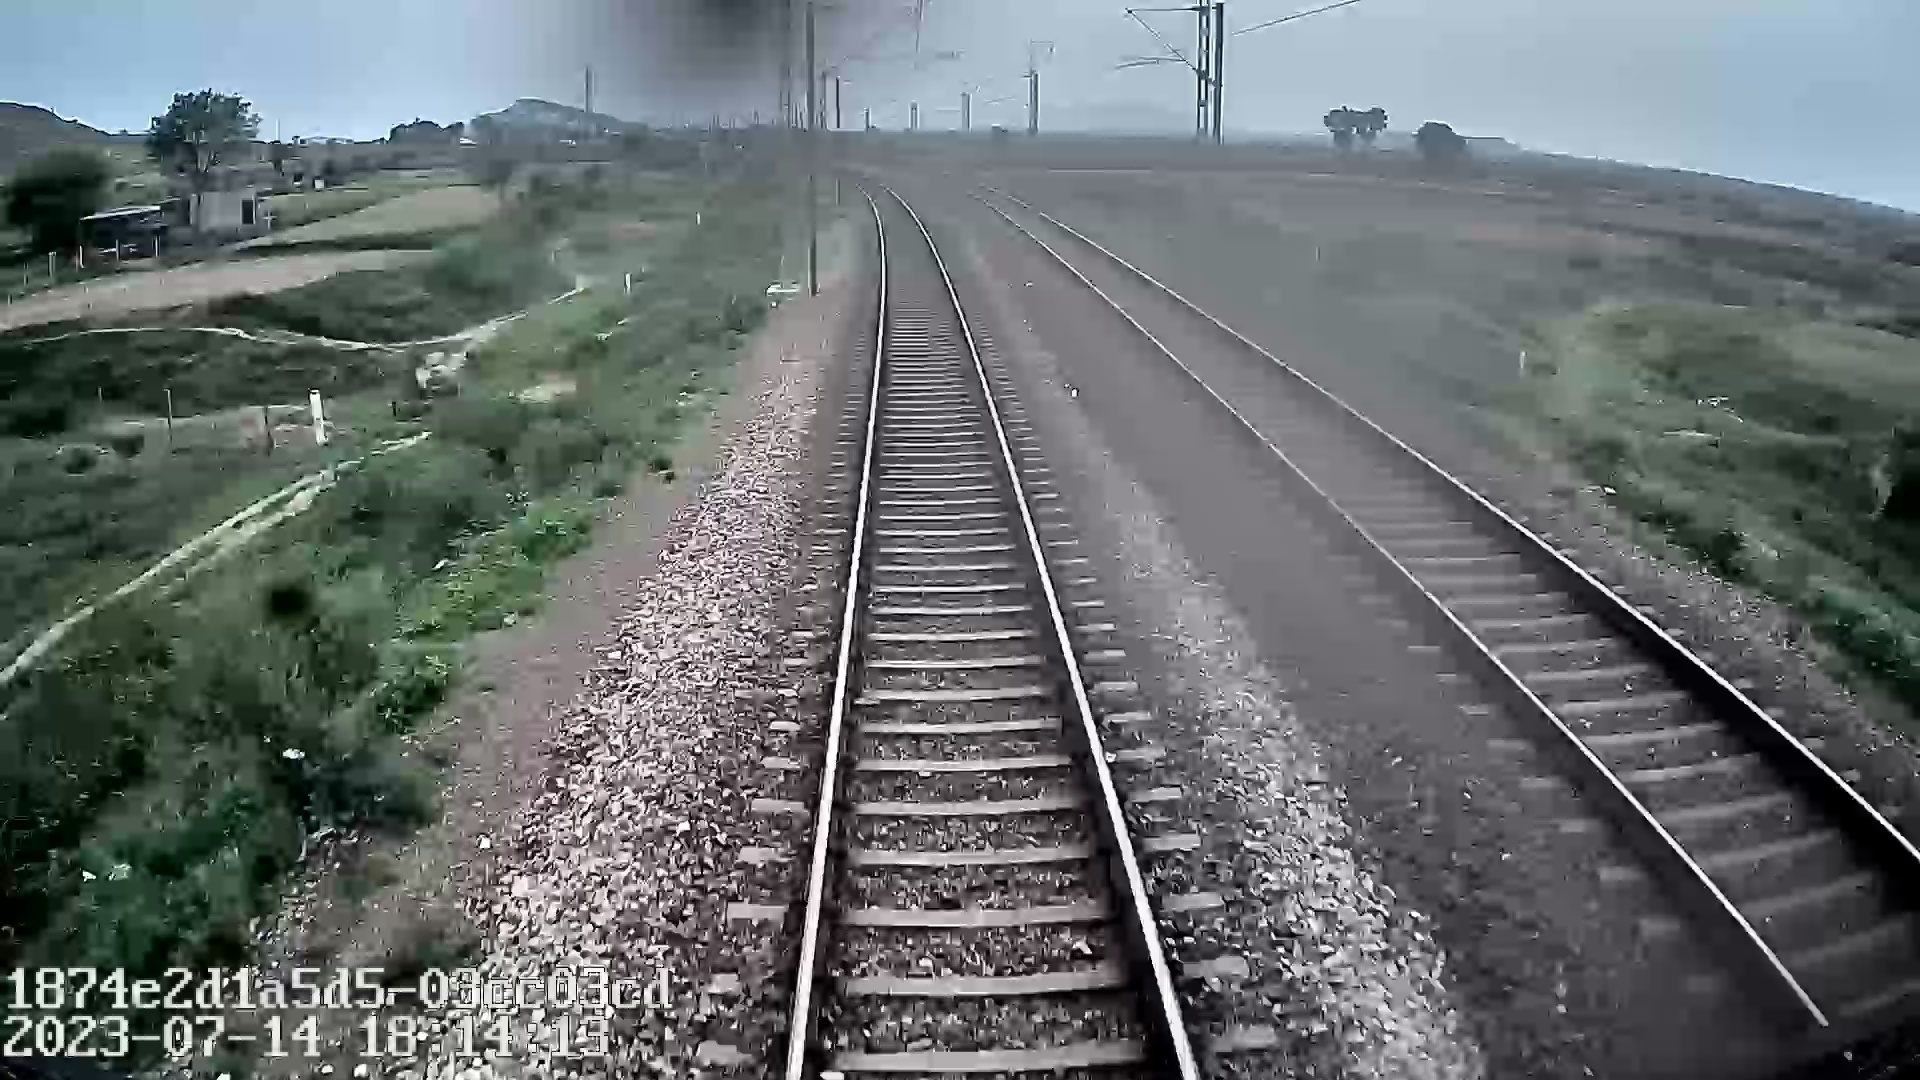track1: (796, 185, 1192, 1071)
track2: (978, 192, 1919, 1021)
